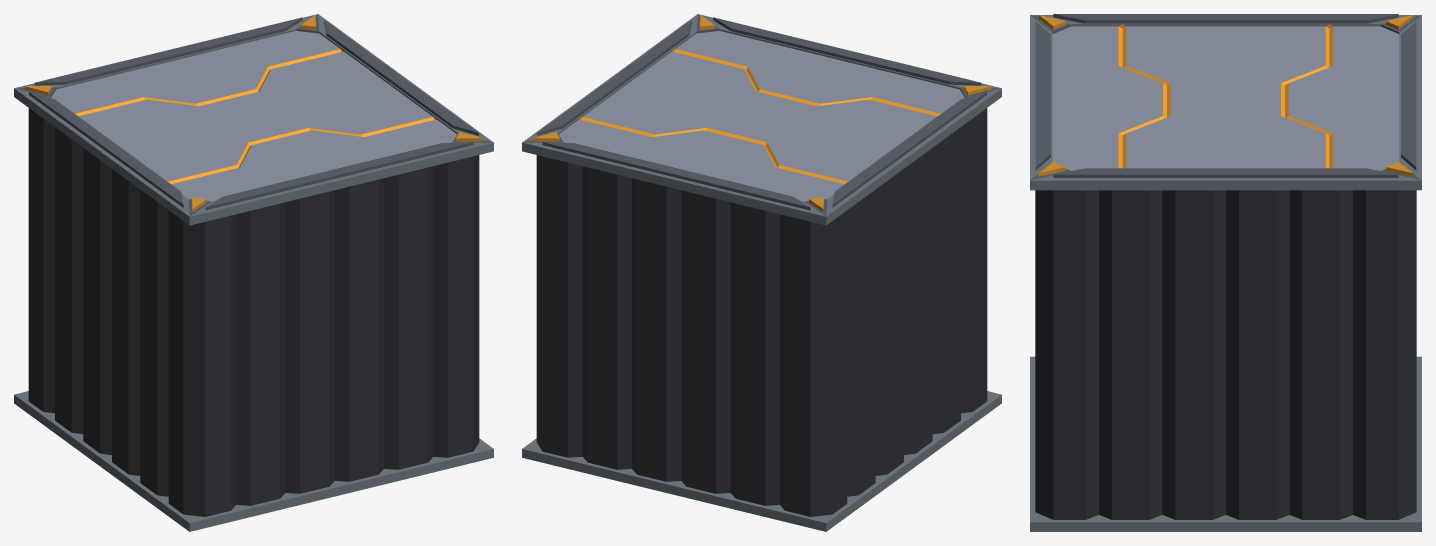
The model's file is SM_Platform_4.glb.
The picture shows the model from 3 angles, left to right: view 1: azimuth 30°, elevation 25°; view 2: azimuth 150°, elevation 25°; view 3: azimuth 270°, elevation 25°; orthographic projection. The views are drawn at different scales.
Parts seen in each view (by area): view 1: SM_Platform_4; view 2: SM_Platform_4; view 3: SM_Platform_4.
Part boxes in pixels (<box>): SM_Platform_4: <box>14,14,493,531</box>; SM_Platform_4: <box>522,14,1001,531</box>; SM_Platform_4: <box>1030,14,1421,531</box>.
Bounding box in the file's own units: 4 × 4 × 4.
Materials: 1 (1 with a texture image).
